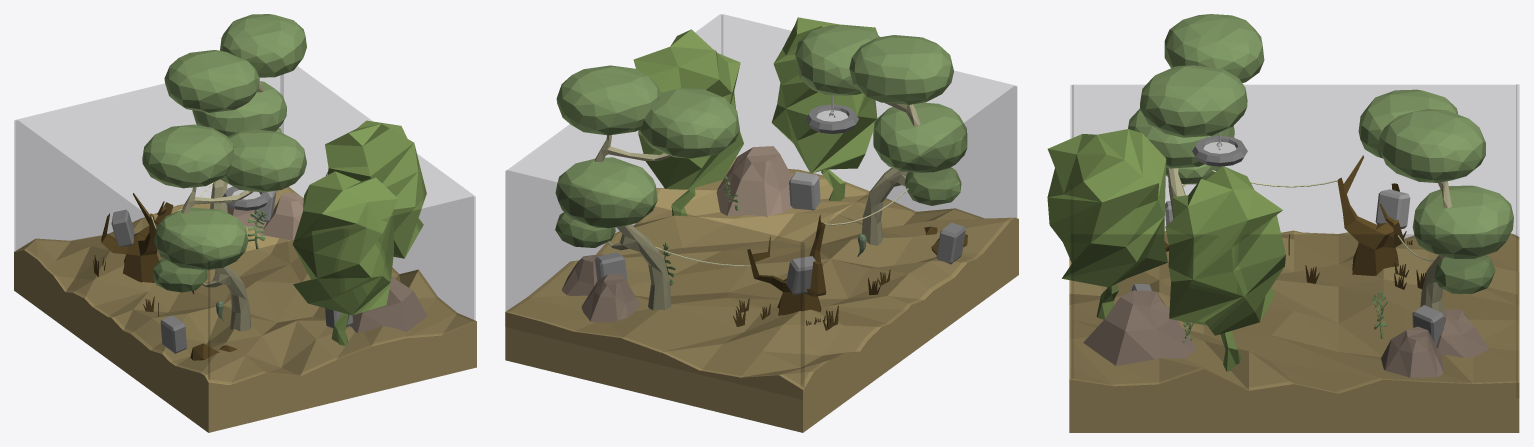
File: Gehege.fbx
3 renders of one model, left to right at view 1: azimuth 30°, elevation 25°; view 2: azimuth 150°, elevation 25°; view 3: azimuth 270°, elevation 25°, orthographic. The views are drawn at different scales.
Parts seen in each view (by area): view 1: Plane, Cube__1_, Cube__2_, Cube_2, tree_F08__1_, Cube__4_, tree_f__1_, tree_F08, tree_f, bush_2_spring_pal, rock_F05, rock_F05__2_ (+3 smaller); view 2: Plane, Cube_2, Cube__2_, tree_F08, tree_F08__1_, Cube__1_, Cube__4_, tree_f__1_, tree_f, rock_F05, bush_2_spring_pal, rock_F05__1_ (+6 smaller); view 3: Cube__4_, Plane, Cube__2_, tree_F08, tree_f__1_, tree_f, tree_F08__1_, rock_F05, bush_2_spring_pal, rock_F05__2_, rock_F05__1_, Torus (+3 smaller).
Part boxes in pixels (<box>): Plane: <box>14,186,476,432</box>; Cube__1_: <box>208,197,473,381</box>; Cube__2_: <box>16,121,209,378</box>; Cube_2: <box>14,75,283,250</box>; tree_F08__1_: <box>142,124,306,331</box>; Cube__4_: <box>281,66,475,320</box>; tree_f__1_: <box>292,171,397,345</box>; tree_F08: <box>164,14,306,212</box>; tree_f: <box>325,120,426,258</box>; bush_2_spring_pal: <box>101,193,173,282</box>; rock_F05: <box>350,277,427,332</box>; rock_F05__2_: <box>263,192,303,240</box>; Plane: <box>505,157,1018,432</box>; Cube_2: <box>505,170,803,386</box>; Cube__2_: <box>801,86,1016,384</box>; tree_F08: <box>555,65,739,310</box>; tree_F08__1_: <box>795,25,967,245</box>; Cube__1_: <box>722,15,1016,217</box>; Cube__4_: <box>506,14,722,310</box>; tree_f__1_: <box>771,17,877,200</box>; tree_f: <box>633,29,743,216</box>; rock_F05: <box>716,146,791,217</box>; bush_2_spring_pal: <box>747,215,826,315</box>; rock_F05__1_: <box>581,273,640,322</box>; Cube__4_: <box>1072,235,1517,391</box>; Plane: <box>1069,230,1519,432</box>; Cube__2_: <box>1072,85,1516,238</box>; tree_F08: <box>1358,89,1513,311</box>; tree_f__1_: <box>1047,129,1167,319</box>; tree_f: <box>1165,166,1285,371</box>; tree_F08__1_: <box>1128,14,1264,219</box>; rock_F05: <box>1083,290,1196,365</box>; bush_2_spring_pal: <box>1337,155,1403,275</box>; rock_F05__2_: <box>1381,326,1443,377</box>; rock_F05__1_: <box>1436,309,1489,358</box>; Torus: <box>1192,135,1247,166</box>.
Bounding box in the file's own units: 102 × 96.14 × 132.
